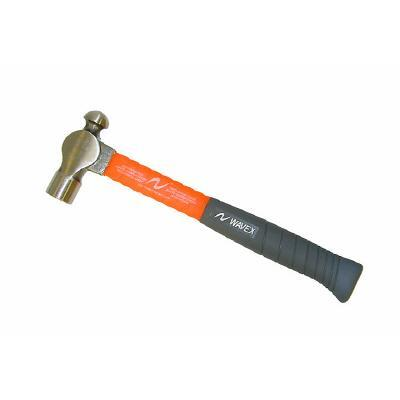hammer: (44, 109, 362, 303)
